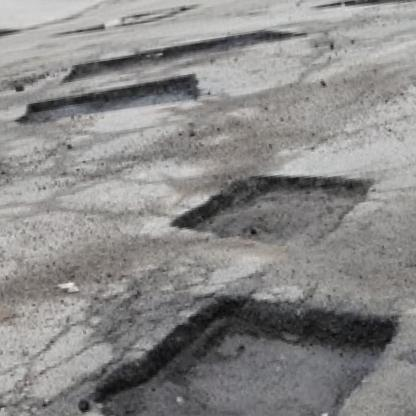pothole: (83, 266, 416, 416), (168, 155, 383, 267), (58, 22, 307, 84), (14, 71, 207, 129), (313, 0, 416, 16)
